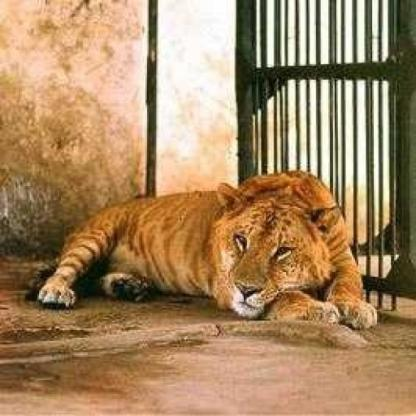Tiger: (13, 140, 411, 350)
